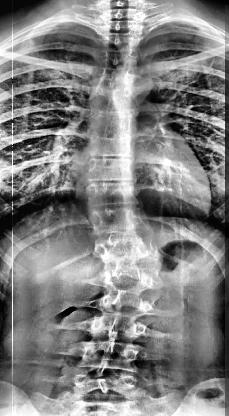Vertebrae: (77, 340, 147, 374), (91, 286, 160, 316), (86, 312, 150, 344), (96, 258, 164, 284), (94, 232, 161, 258), (88, 206, 148, 235), (83, 156, 139, 187), (89, 110, 141, 141), (86, 138, 144, 162), (91, 88, 143, 113), (86, 183, 140, 207), (93, 68, 138, 94), (100, 47, 138, 72), (100, 32, 143, 53), (97, 18, 136, 34)
